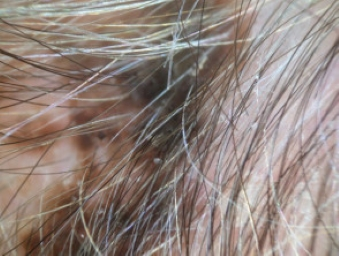seborrheic keratosis: (57, 37, 241, 174)
